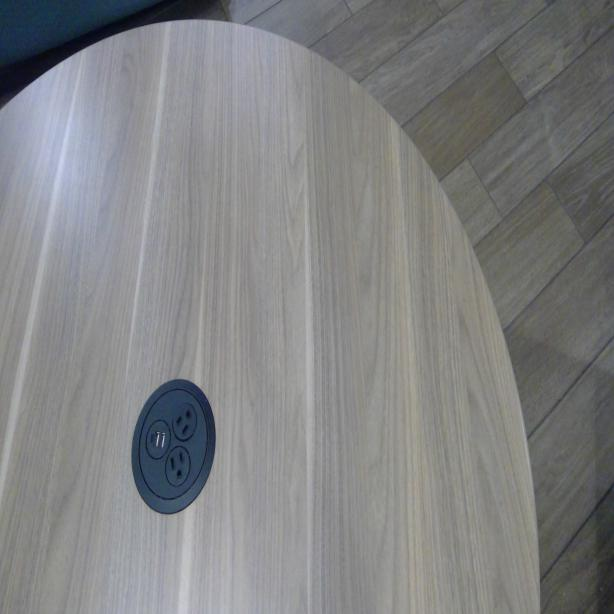typeb: (167, 450, 190, 488), (172, 406, 194, 442)
